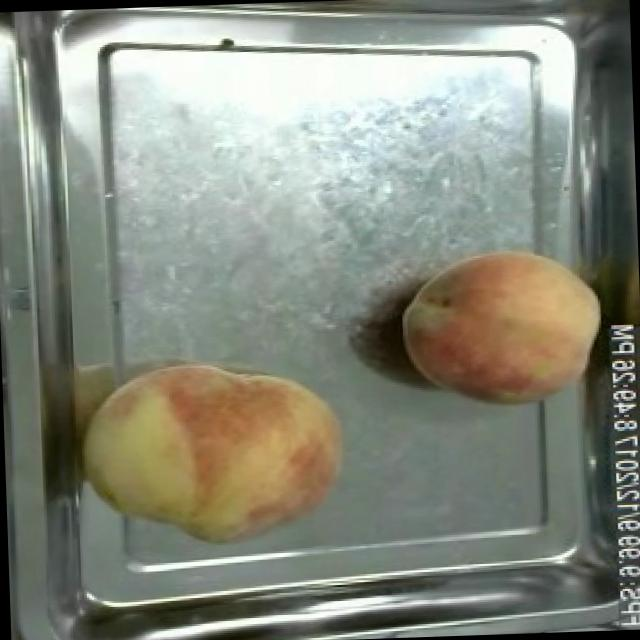Fruit: (75, 348, 358, 564), (392, 236, 614, 411)
